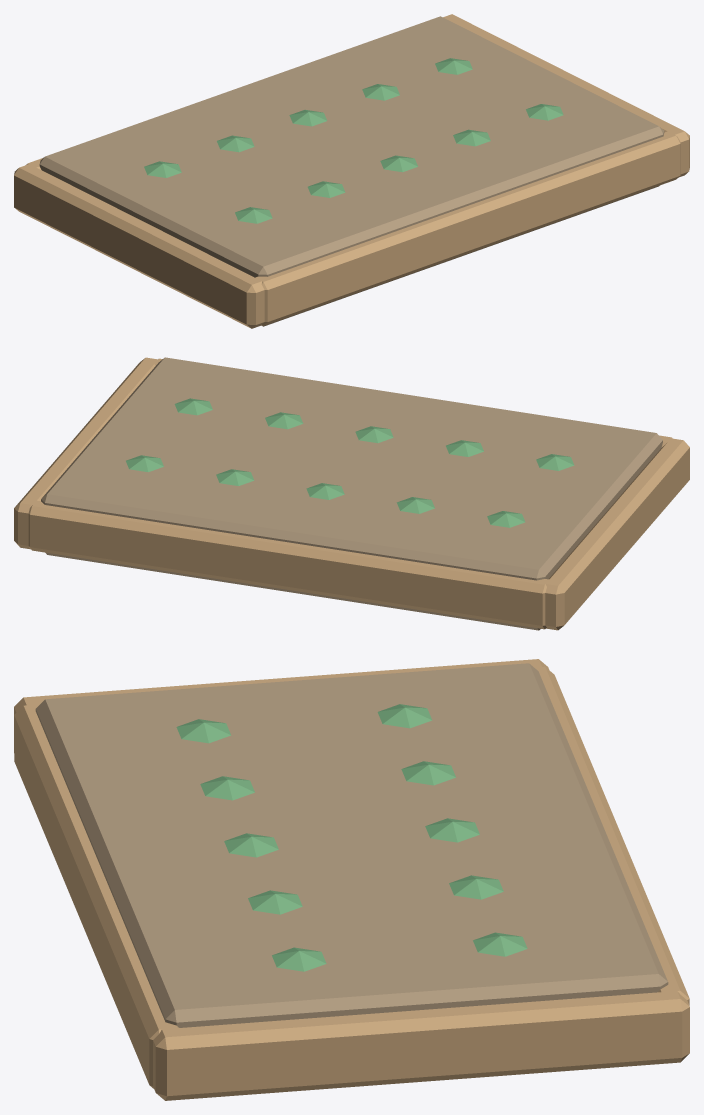
The model's file is town_allotment_bed.glb.
The picture shows the model from 3 angles, top to bottom: view 1: azimuth 30°, elevation 25°; view 2: azimuth 150°, elevation 25°; view 3: azimuth 270°, elevation 25°; orthographic projection. The views are drawn at different scales.
Parts seen in each view (by area): view 1: world; view 2: world; view 3: world.
Part boxes in pixels (bbox=[...]): world: bbox=[14, 14, 689, 328]; world: bbox=[14, 357, 689, 630]; world: bbox=[14, 659, 689, 1100].
Size of the model in its own units: 2 by 0.2513 by 1.48.
